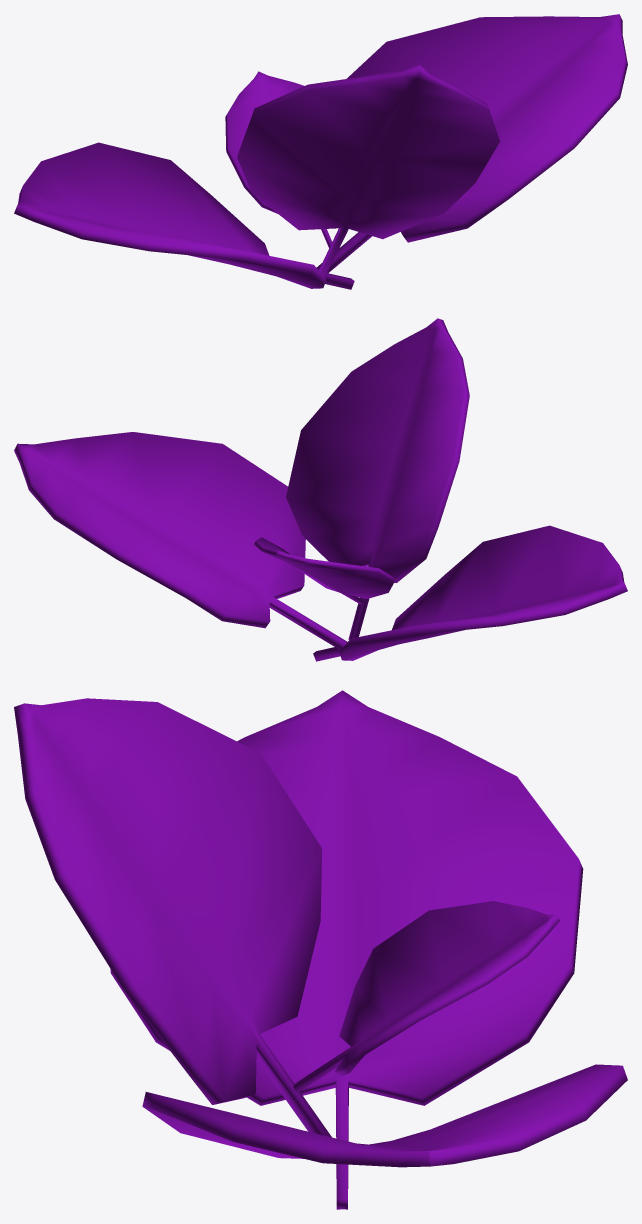
The model's file is Poison_Leaf.fbx.
3 renders of one model, top to bottom at view 1: azimuth 30°, elevation 25°; view 2: azimuth 150°, elevation 25°; view 3: azimuth 270°, elevation 25°, orthographic. The views are drawn at different scales.
Parts seen in each view (by area): view 1: Poison_Leaf; view 2: Poison_Leaf; view 3: Poison_Leaf.
Part boxes in pixels (left/top/right/bottom): Poison_Leaf: left=14, top=14, right=627, bottom=289; Poison_Leaf: left=14, top=318, right=627, bottom=661; Poison_Leaf: left=14, top=690, right=627, bottom=1209.
Bounding box in the file's own units: 62.44 × 28.52 × 32.83.
